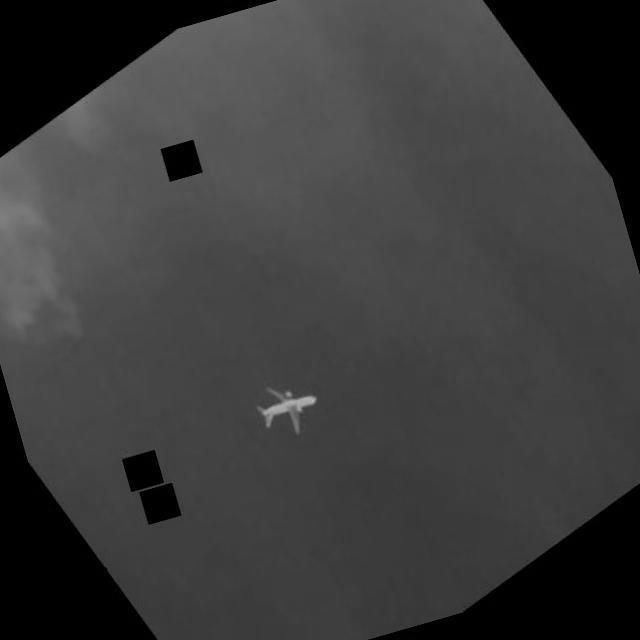aeroplane: (250, 372, 328, 446)
